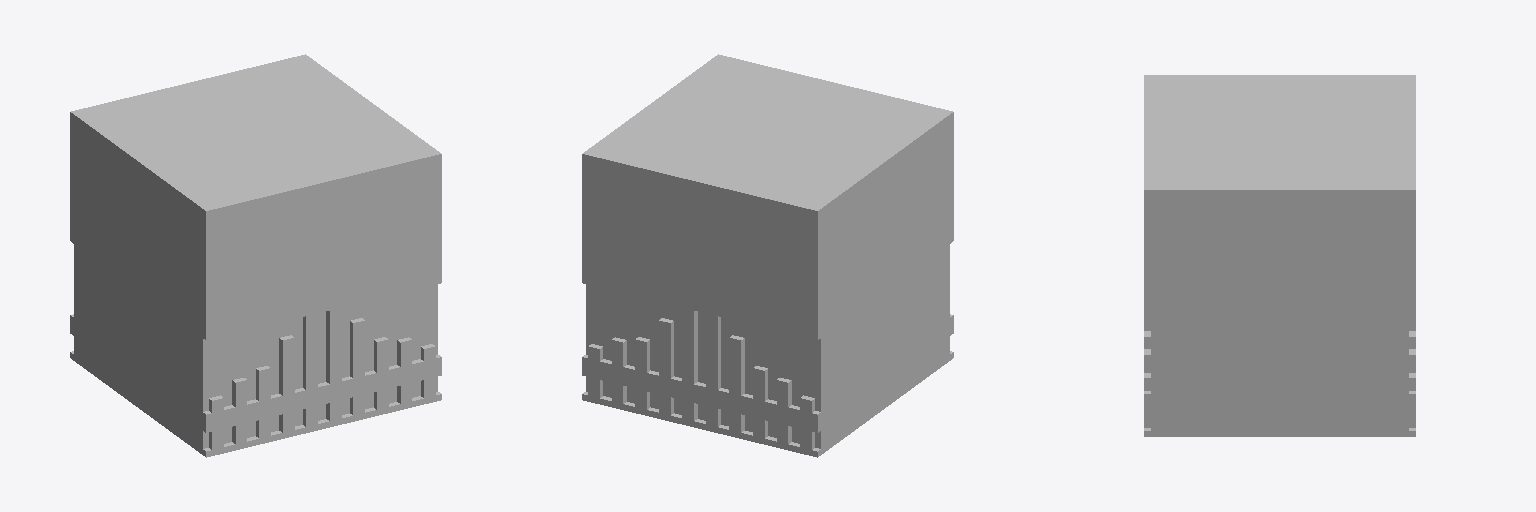
File: Factory Bits-4-ProcessorMiddle.obj
3 renders of one model, left to right at view 1: azimuth 30°, elevation 25°; view 2: azimuth 150°, elevation 25°; view 3: azimuth 270°, elevation 25°, orthographic.
Visible parts, largest first — view 1: ProcessorMiddle; view 2: ProcessorMiddle; view 3: ProcessorMiddle.
Part boxes in pixels (x1,y1,x2,y2): ProcessorMiddle: (70, 54, 441, 457); ProcessorMiddle: (582, 54, 953, 457); ProcessorMiddle: (1144, 75, 1415, 436).
Bounding box in the file's own units: 4 × 4 × 4.